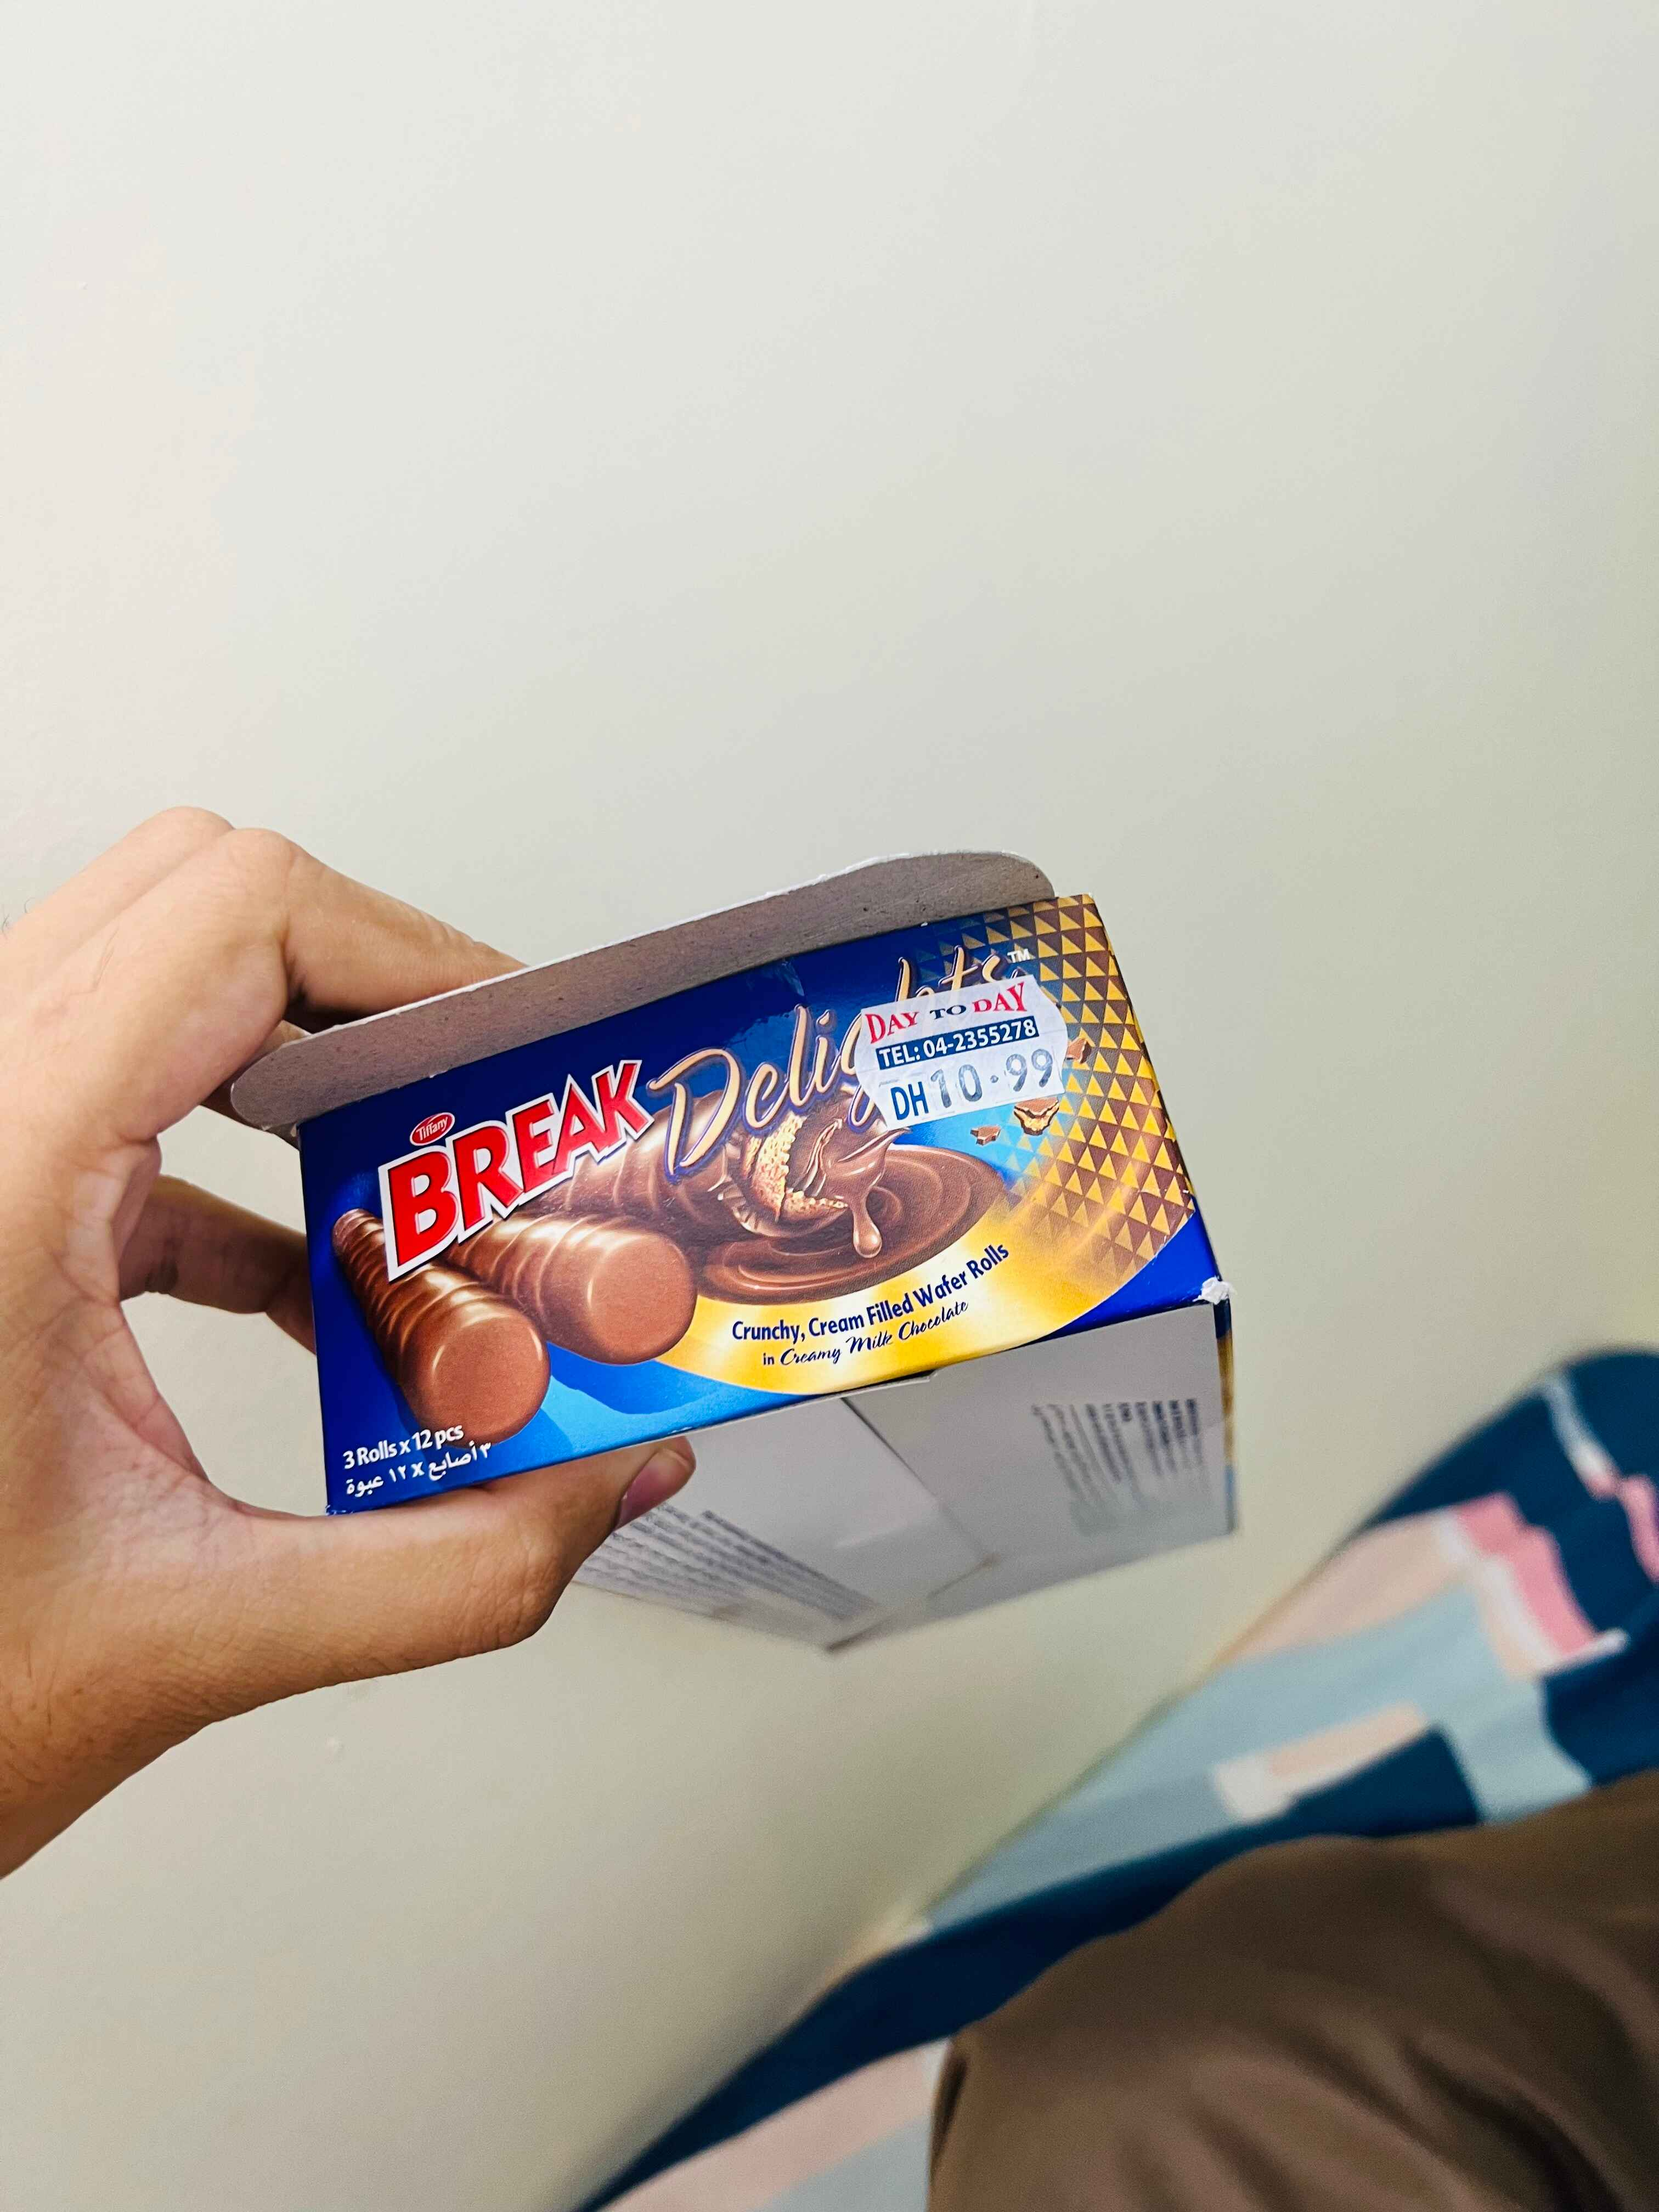PriceTagSmall: (859, 972, 1072, 1123)
